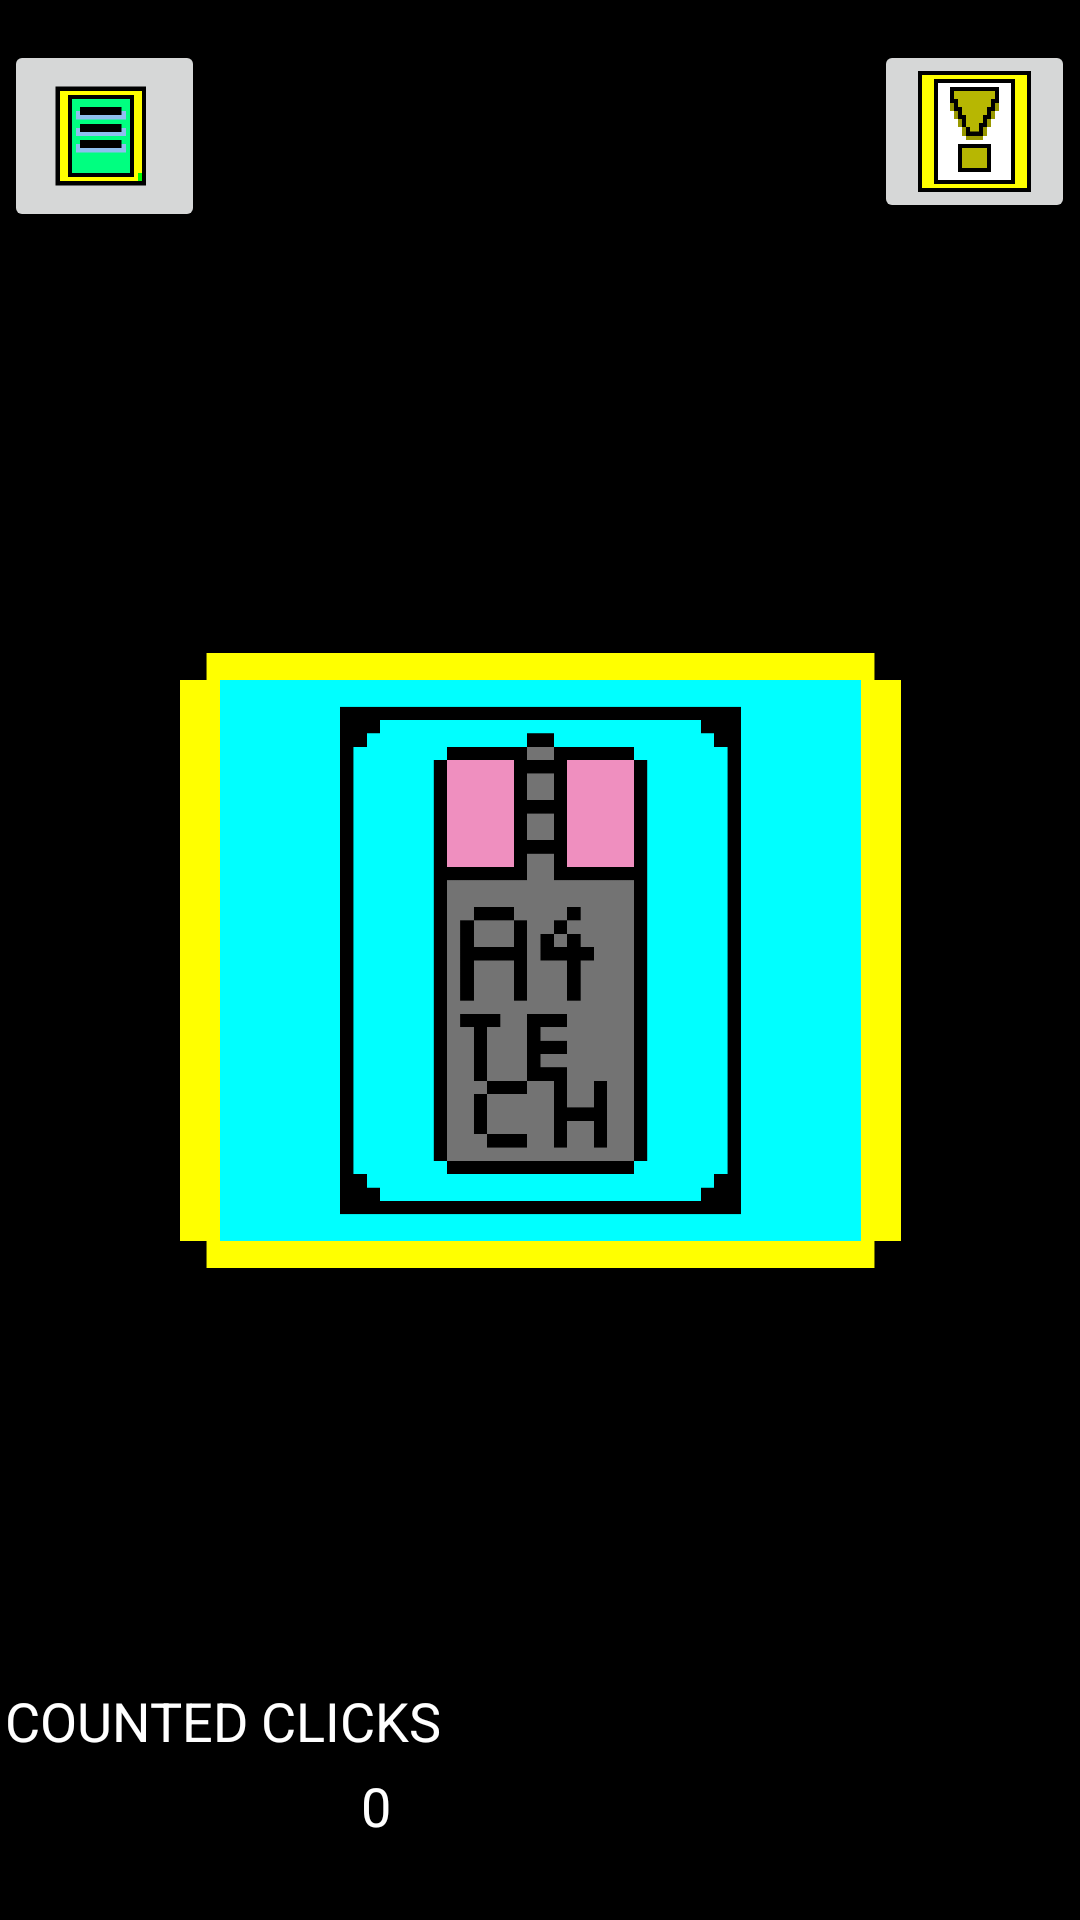

Point at icon controls on the screen. Image size 1080px x 1920px, points as [x,y].
hintbutton: [974,131]
menubutton: [104,136]
